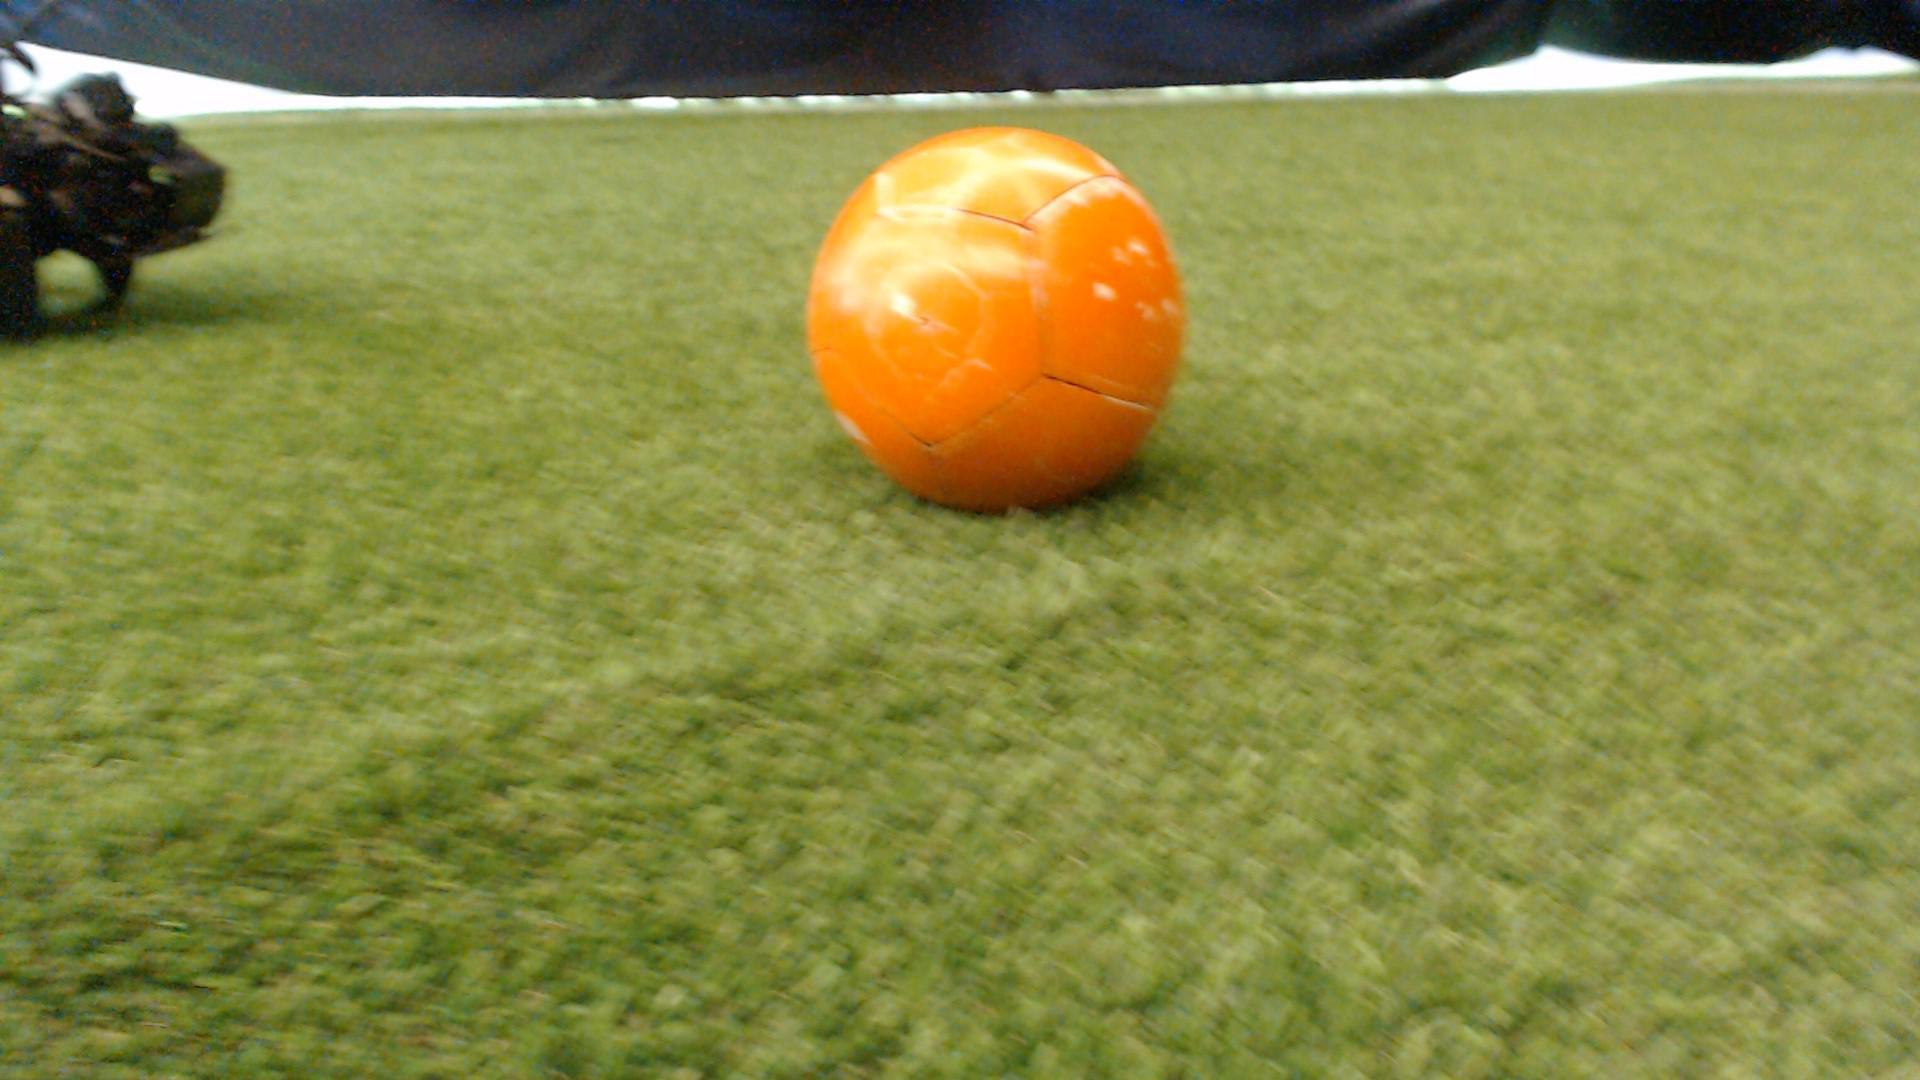bola: (775, 98, 1222, 535)
